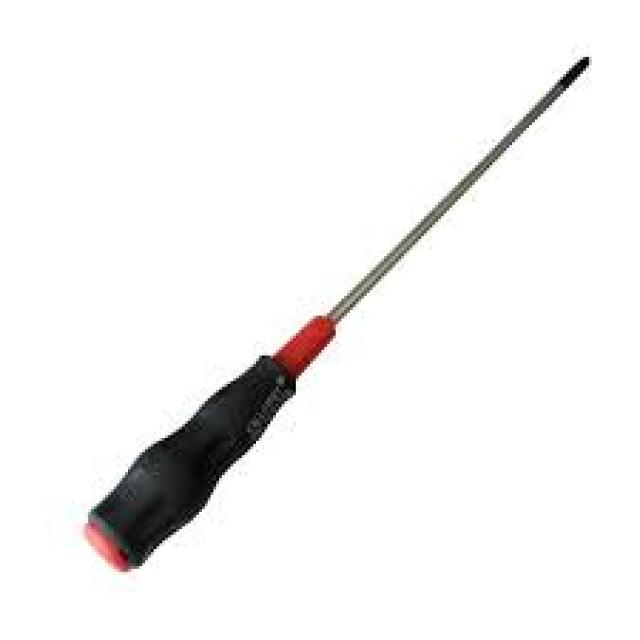screwdriver: (80, 54, 594, 580)
